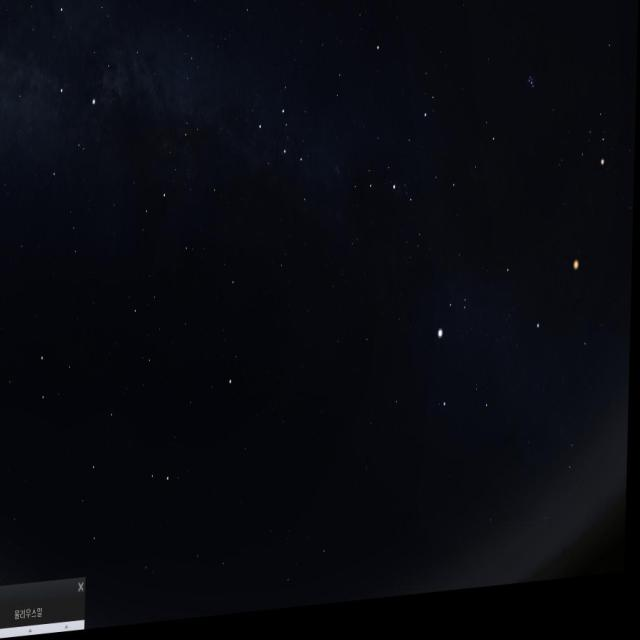cassiopeia: (245, 80, 317, 214)
pleiades: (523, 76, 539, 108)
